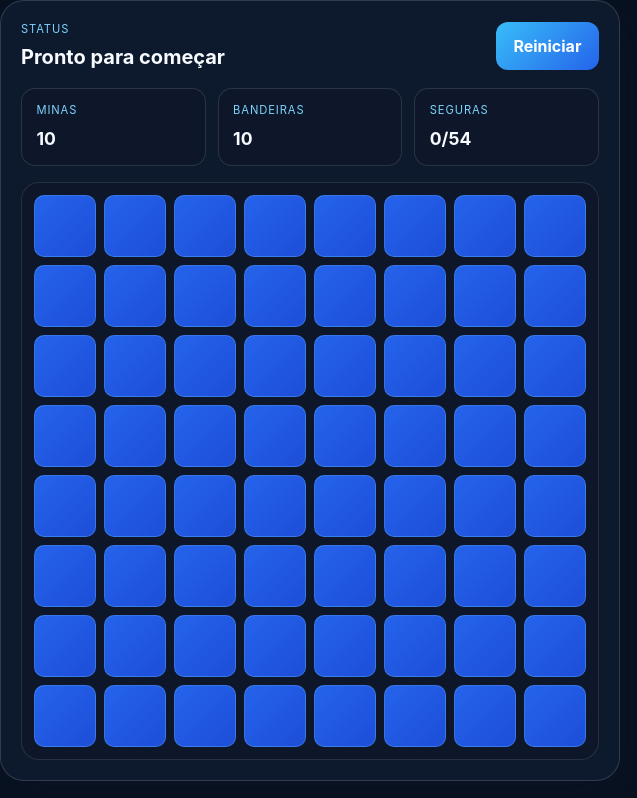
Test: Minefield › coloca e remove bandeira com o clique direito
Later steps or results of the test are not shown.
Right-click the button named "Campo 8-8" at (555, 716), box 524,685 -> 586,747
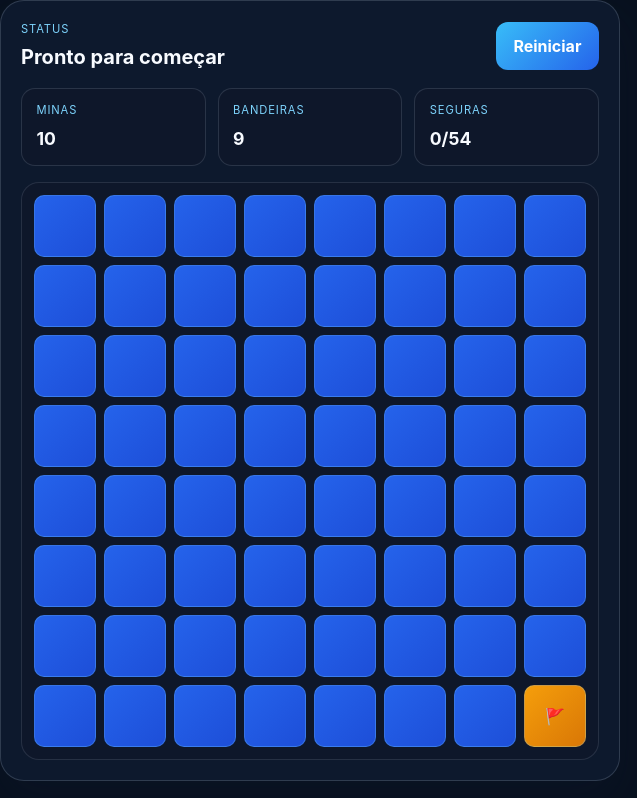
Now the button "🚩" is shown, box 524,685 -> 586,747
